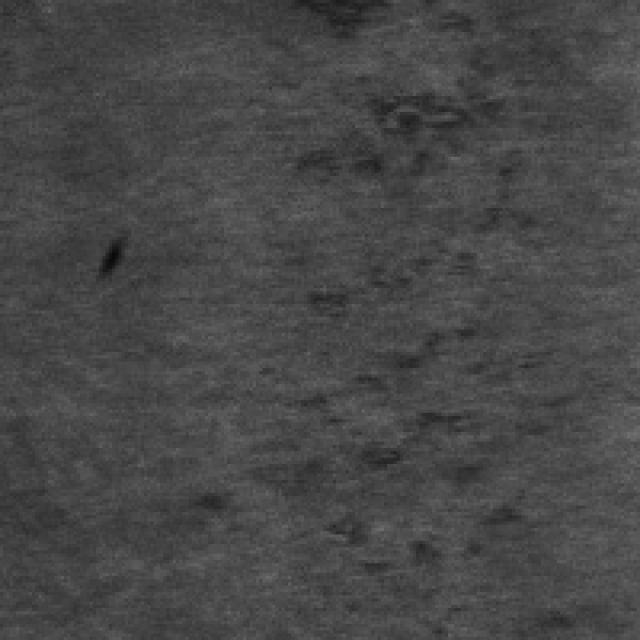rolled-in_scale: (266, 224, 556, 570), (262, 74, 518, 208)
